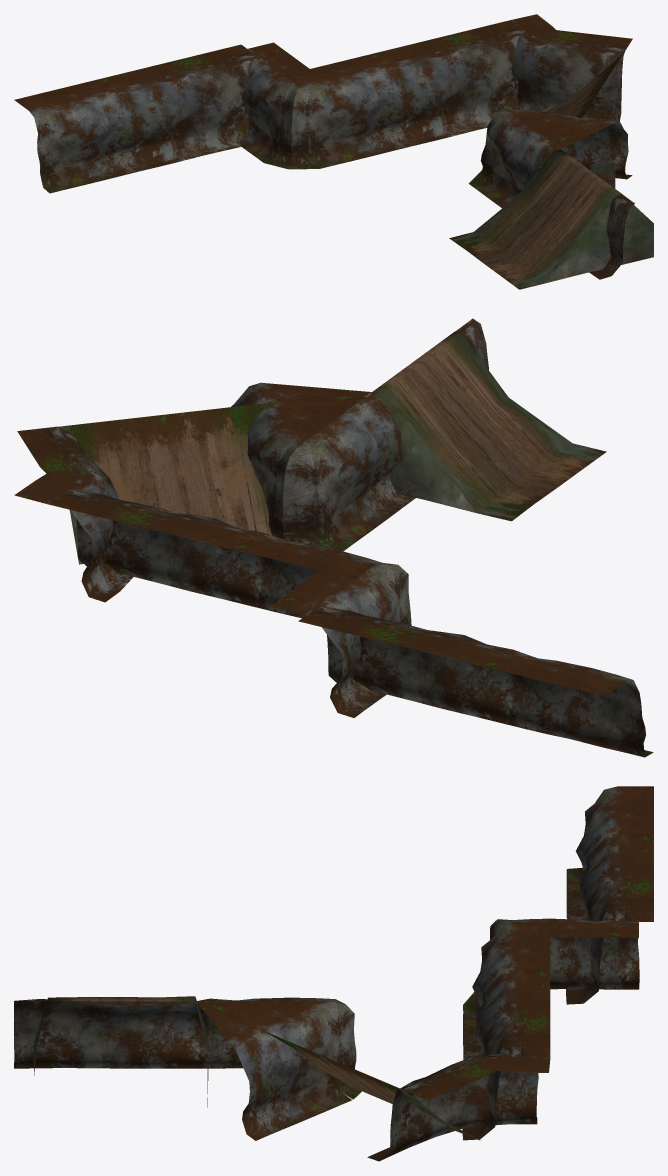
The model's file is Stage_Block_2_3.fbx.
3 renders of one model, top to bottom at view 1: azimuth 30°, elevation 25°; view 2: azimuth 150°, elevation 25°; view 3: azimuth 270°, elevation 25°, orthographic. The views are drawn at different scales.
Parts seen in each view (by area): view 1: Stage_Block_2_3; view 2: Stage_Block_2_3; view 3: Stage_Block_2_3.
Boxes of the visible parts, x1,y1,x2,y2 form: Stage_Block_2_3: (14,14,653,289); Stage_Block_2_3: (14,318,653,757); Stage_Block_2_3: (14,786,653,1161).
Bounding box in the file's own units: 4189 × 519 × 3590.
Materials: 2 (2 with a texture image).
